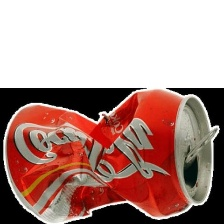can: (0, 85, 224, 224)
